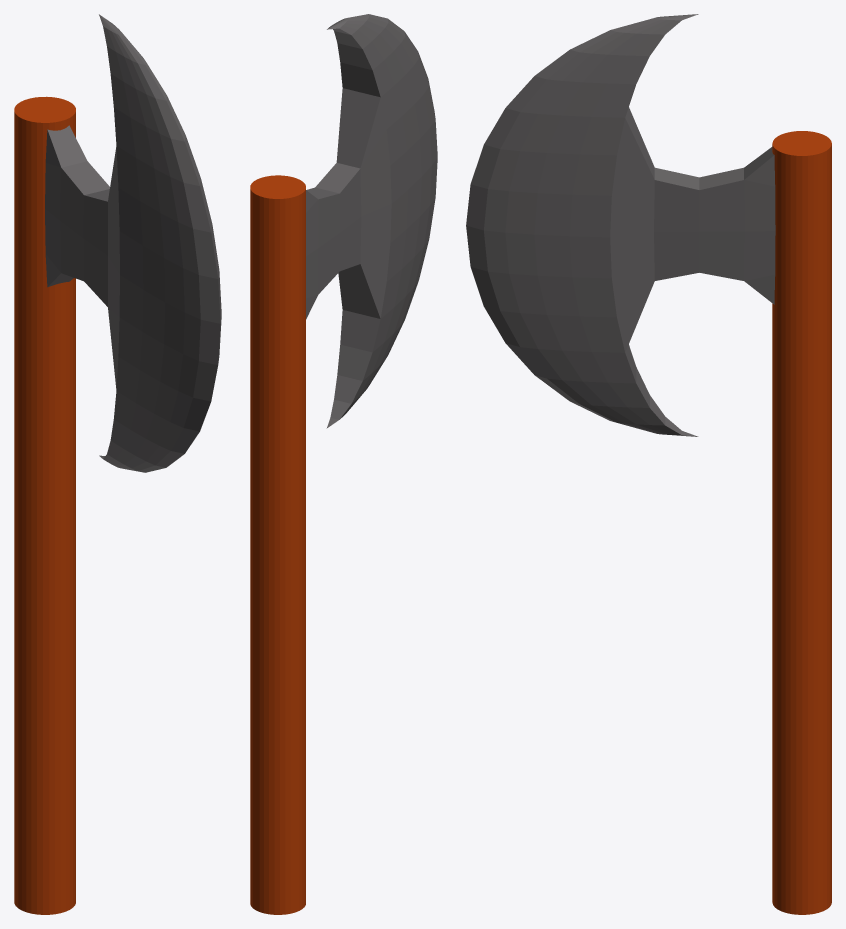
The model's file is Axe.fbx.
The picture shows the model from 3 angles, left to right: view 1: azimuth 30°, elevation 25°; view 2: azimuth 150°, elevation 25°; view 3: azimuth 270°, elevation 25°; orthographic projection. The views are drawn at different scales.
Parts seen in each view (by area): view 1: Axe; view 2: Axe; view 3: Axe.
Part boxes in pixels (<box>): Axe: <box>14,14,221,914</box>; Axe: <box>250,14,437,914</box>; Axe: <box>466,14,831,914</box>.
Size of the model in its own units: 0.2548 by 4.2 by 1.57.
